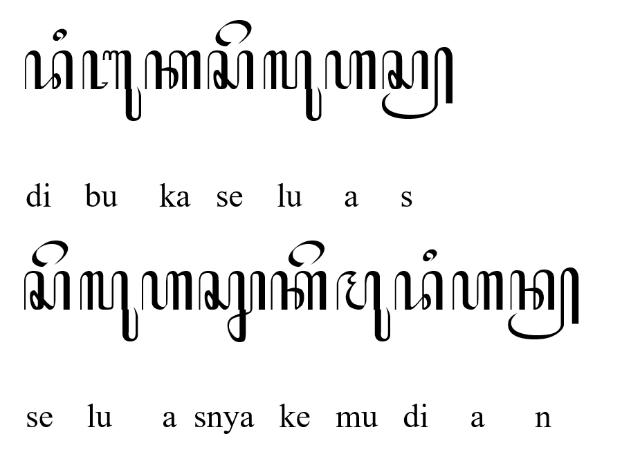-n: (508, 268, 580, 341)
-s: (381, 45, 453, 119), (23, 271, 71, 311)
bu: (82, 49, 142, 121)
d: (24, 49, 74, 90), (393, 270, 442, 310)
e: (214, 19, 252, 47), (288, 240, 326, 268), (32, 240, 68, 268)
h: (452, 270, 504, 311), (325, 50, 377, 90), (142, 270, 192, 310)
i: (52, 28, 68, 42), (422, 248, 438, 262)
k: (144, 49, 202, 90), (270, 271, 328, 311)
lu: (262, 49, 322, 121), (79, 271, 139, 343)
mu: (336, 270, 392, 342)
s: (206, 50, 254, 90)
sny: (197, 270, 265, 344)
